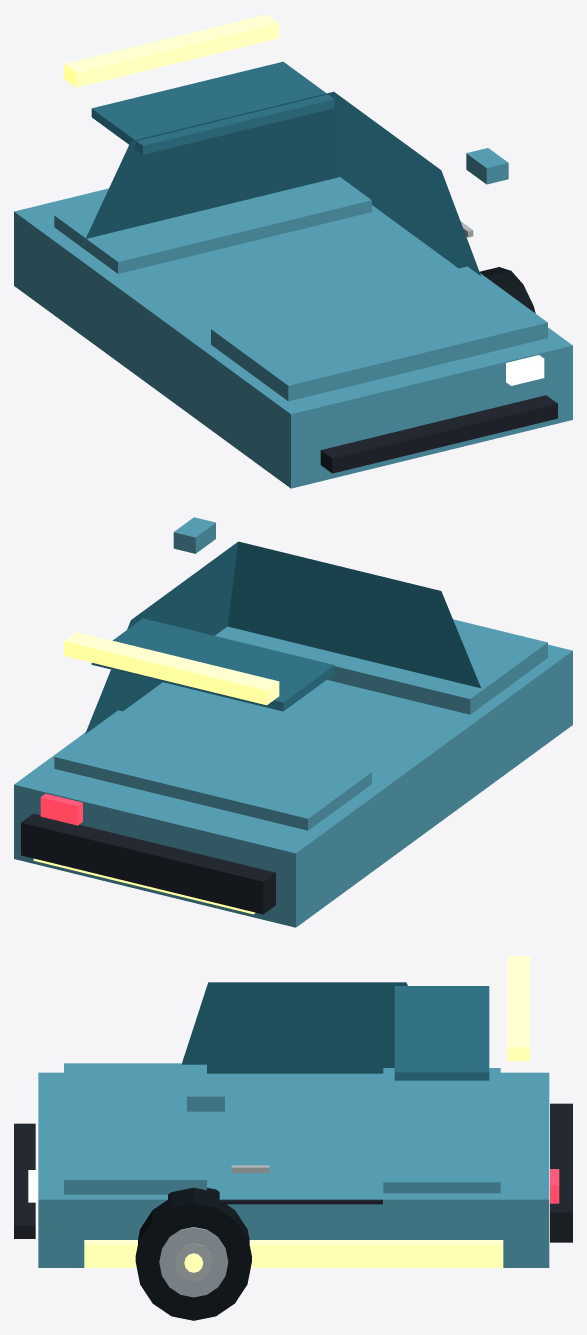
The model's file is hatch.glb.
The picture shows the model from 3 angles, top to bottom: view 1: azimuth 30°, elevation 25°; view 2: azimuth 150°, elevation 25°; view 3: azimuth 270°, elevation 25°; orthographic projection. The views are drawn at different scales.
Visible parts, largest first — view 1: sculpted lower body, faceted glass cabin, formed hood, rear deck, upright hatch glass, front splitter, roof spoiler, side mirror, front LED, rubber tire; view 2: sculpted lower body, faceted glass cabin, rear deck, rear bumper, formed hood, upright hatch glass, roof spoiler, side mirror, rear LED, rear diffuser; view 3: sculpted lower body, faceted glass cabin, formed hood, rear deck, upright hatch glass, side skirt, rubber tire, rear bumper, machined wheel face, roof spoiler, front splitter, side mirror (+2 smaller).
Part boxes in pixels (box(x1,y1,x2,y2)): sculpted lower body: box(14, 188, 572, 488); faceted glass cabin: box(82, 91, 480, 275); formed hood: box(211, 266, 547, 401); rear deck: box(54, 177, 371, 273); upright hatch glass: box(91, 61, 334, 154); front splitter: box(320, 395, 557, 473); roof spoiler: box(64, 14, 279, 87); side mirror: box(466, 148, 508, 184); front LED: box(506, 355, 544, 385); rubber tire: box(479, 267, 535, 313); sculpted lower body: box(14, 644, 572, 927); faceted glass cabin: box(85, 541, 480, 734); rear deck: box(54, 710, 371, 830); rear bumper: box(21, 813, 275, 914); formed hood: box(215, 619, 547, 714); upright hatch glass: box(91, 618, 334, 711); roof spoiler: box(64, 632, 279, 705); side mirror: box(173, 517, 215, 553); rear LED: box(40, 793, 82, 825); rear diffuser: box(33, 858, 255, 914); sculpted lower body: box(38, 1072, 549, 1267); faceted glass cabin: box(181, 982, 407, 1073); formed hood: box(64, 1063, 206, 1194); rear deck: box(383, 1068, 500, 1193); upright hatch glass: box(394, 986, 489, 1080); side skirt: box(84, 1240, 503, 1267); rubber tire: box(135, 1187, 251, 1320); rear bumper: box(550, 1103, 572, 1242); machined wheel face: box(159, 1227, 228, 1297); roof spoiler: box(507, 956, 530, 1061); front splitter: box(14, 1123, 35, 1238); side mirror: box(187, 1086, 224, 1111).
Bounding box in the file's own units: 2.04 × 1.68 × 3.47.
